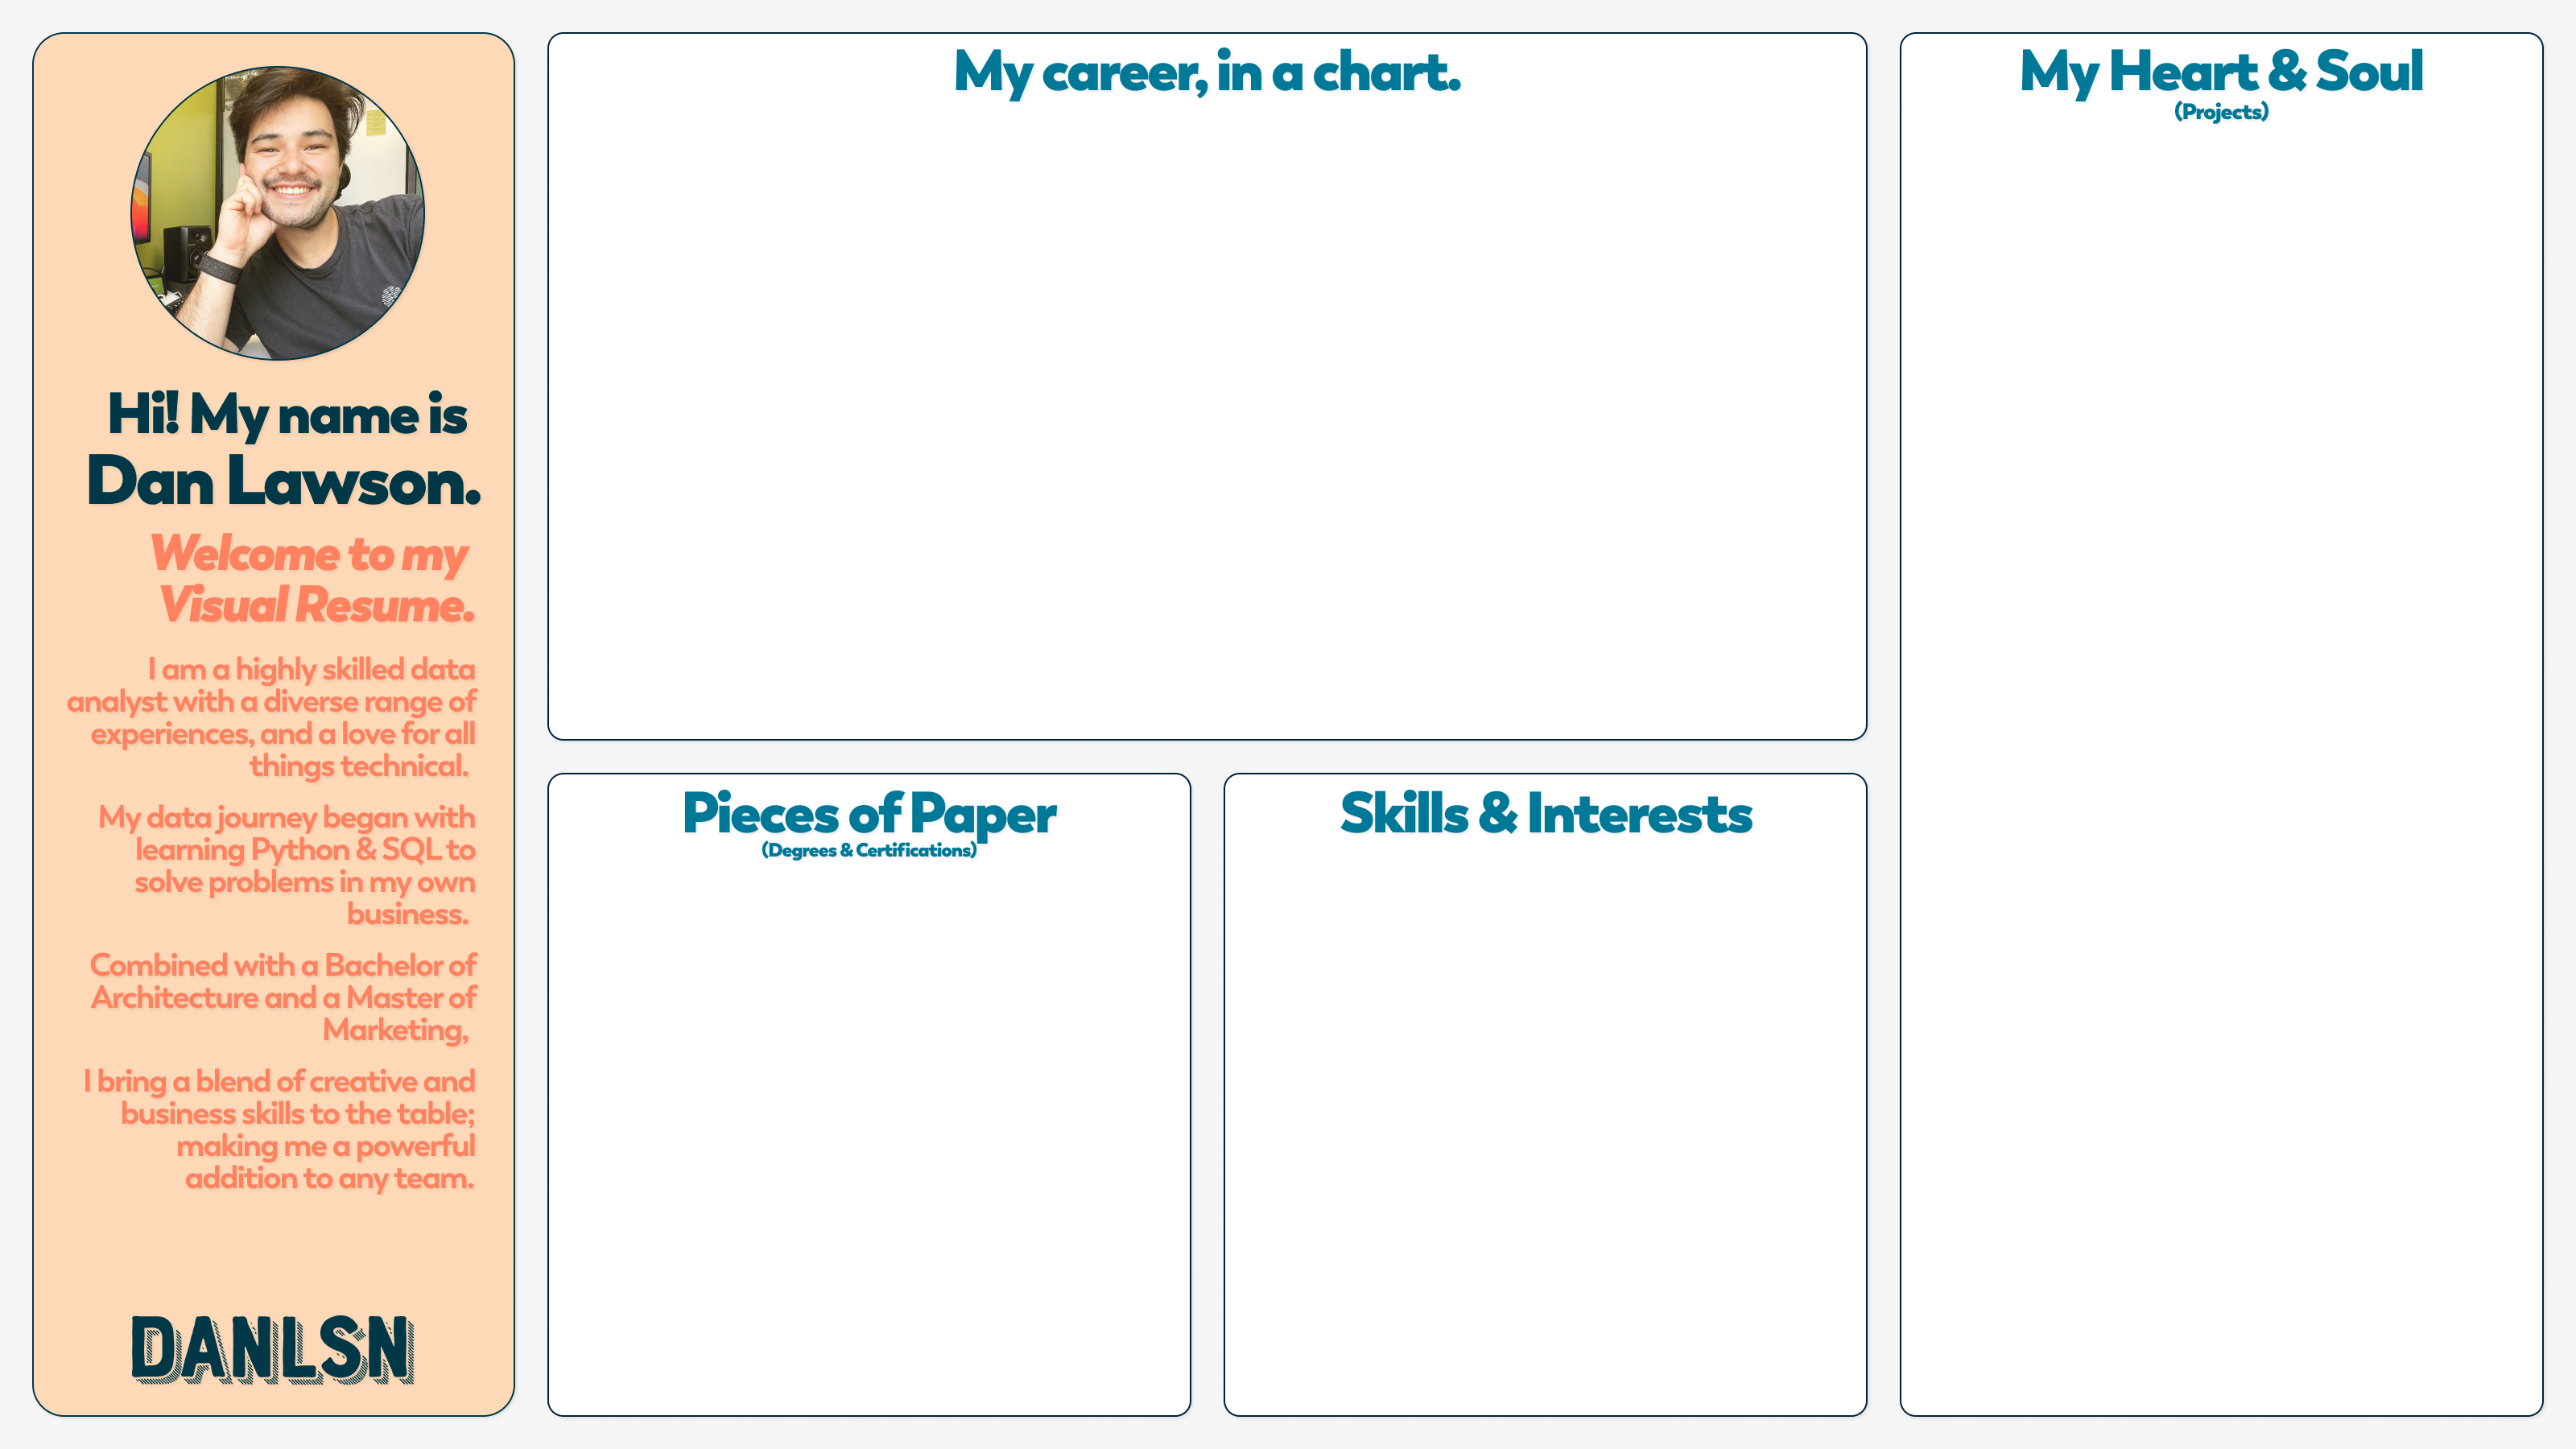

Layout of this report page (visuals, bound fields, positions):
{"tool":"tableau","page":{"name":"Public","canvas":[1600,900],"ordinal":0},"visuals":[{"type":"image","param":"C:/Users/DanielLawson/IdeaProjects/tableau-visual-resume/media/background/Dashbo","box":[0,0,1600,900]},{"type":"worksheet","title":"Timeline","mark":"GanttBar","rows":["Organisation","ID"],"cols":["Start_Date"],"box":[349,69,802,382]},{"type":"worksheet","title":"Projects","mark":"Automatic","rows":["Client","Title","Icon"],"box":[1195,88,377,754]},{"type":"filter","title":"Timeline","param":"[Sample - EU Superstore].[none:Timeframe:nk]","box":[361,425,198,24]},{"type":"text","box":[771,525,125,30]},{"type":"text","box":[896,525,125,30]},{"type":"text","box":[1021,525,125,30]},{"type":"worksheet","title":"Degrees & Certifications","mark":"Automatic","rows":["Date_Obtained","Title"],"box":[348,547,384,326]},{"type":"worksheet","title":"Skills & Interests","mark":"Automatic","rows":["Skill","Type"],"cols":["Familiar-Comfortable-Confident"],"box":[773,558,375,286]},{"type":"worksheet","title":"Social Links","mark":"Shape","cols":["Platform"],"box":[46,746,246,54]},{"type":"filter","title":"Projects","param":"[federated.0af55k21ol7yfq14xx86u1codcg9].[none:Client:nk]","box":[1195,844,374,30]},{"type":"filter","title":"Skills & Interests","param":"[federated.0af55k21ol7yfq14xx86u1codcg9].[none:Technical:ok]","box":[770,847,188,28]},{"type":"filter","title":"Skills & Interests","param":"[federated.0af55k21ol7yfq14xx86u1codcg9].[none:Type:nk]","box":[958,847,188,28]}]}

Visuals, with their boxes in screenshot pixels (x1, y1, x2, y2), scaled from the page's 1600x900 canvas onto the 2576x1449 screenshot:
image: rect(0, 0, 2575, 1448)
"Timeline" worksheet (GanttBar marks): rect(562, 111, 1853, 726)
"Projects" worksheet: rect(1924, 142, 2531, 1356)
"Timeline" filter: rect(581, 684, 900, 723)
text: rect(1241, 845, 1443, 894)
text: rect(1443, 845, 1644, 894)
text: rect(1644, 845, 1845, 894)
"Degrees & Certifications" worksheet: rect(560, 881, 1179, 1406)
"Skills & Interests" worksheet: rect(1245, 898, 1848, 1359)
"Social Links" worksheet (Shape marks): rect(74, 1201, 470, 1288)
"Projects" filter: rect(1924, 1359, 2526, 1407)
"Skills & Interests" filter: rect(1240, 1364, 1542, 1409)
"Skills & Interests" filter: rect(1542, 1364, 1845, 1409)
